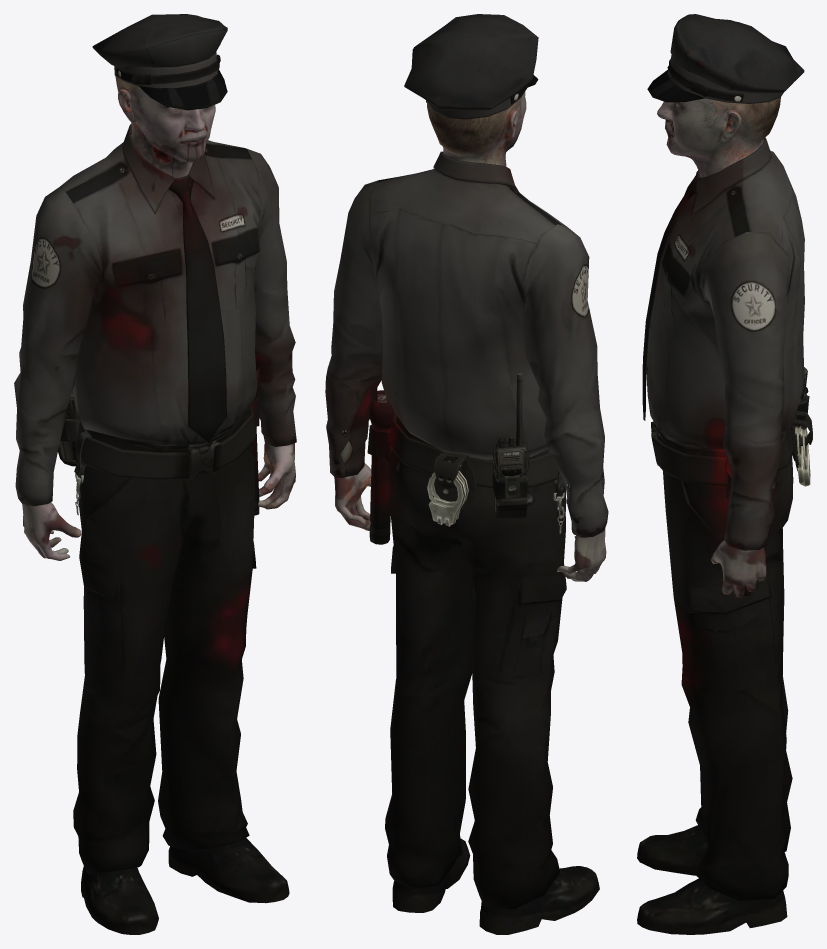
Rendered from guard.glb.
3 views of the same model, side by side, from view 1: azimuth 30°, elevation 25°; view 2: azimuth 150°, elevation 25°; view 3: azimuth 270°, elevation 25° (orthographic).
Parts seen in each view (by area): view 1: guard; view 2: guard; view 3: guard.
Boxes of the visible parts, x1,y1,x2,y2 form: guard: [14, 14, 296, 934]; guard: [325, 14, 608, 934]; guard: [637, 14, 812, 934].
Size of the model in its own units: 0.6077 by 1.83 by 0.3368.
3 materials, 3 textured.
